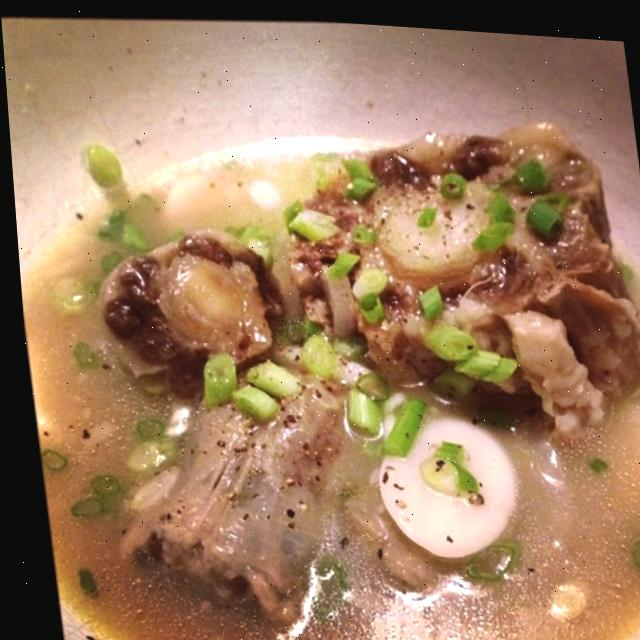汤锅炖物: (4, 6, 640, 640)
